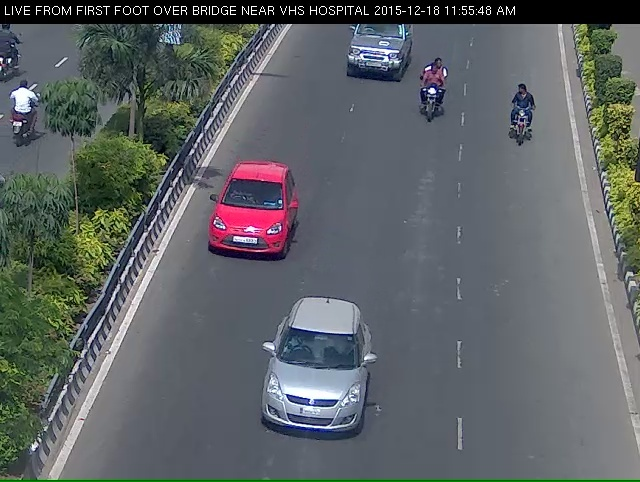Car: (251, 313, 382, 475), (200, 162, 288, 286), (335, 19, 409, 99)
Person: (502, 79, 541, 162), (411, 64, 450, 132)
